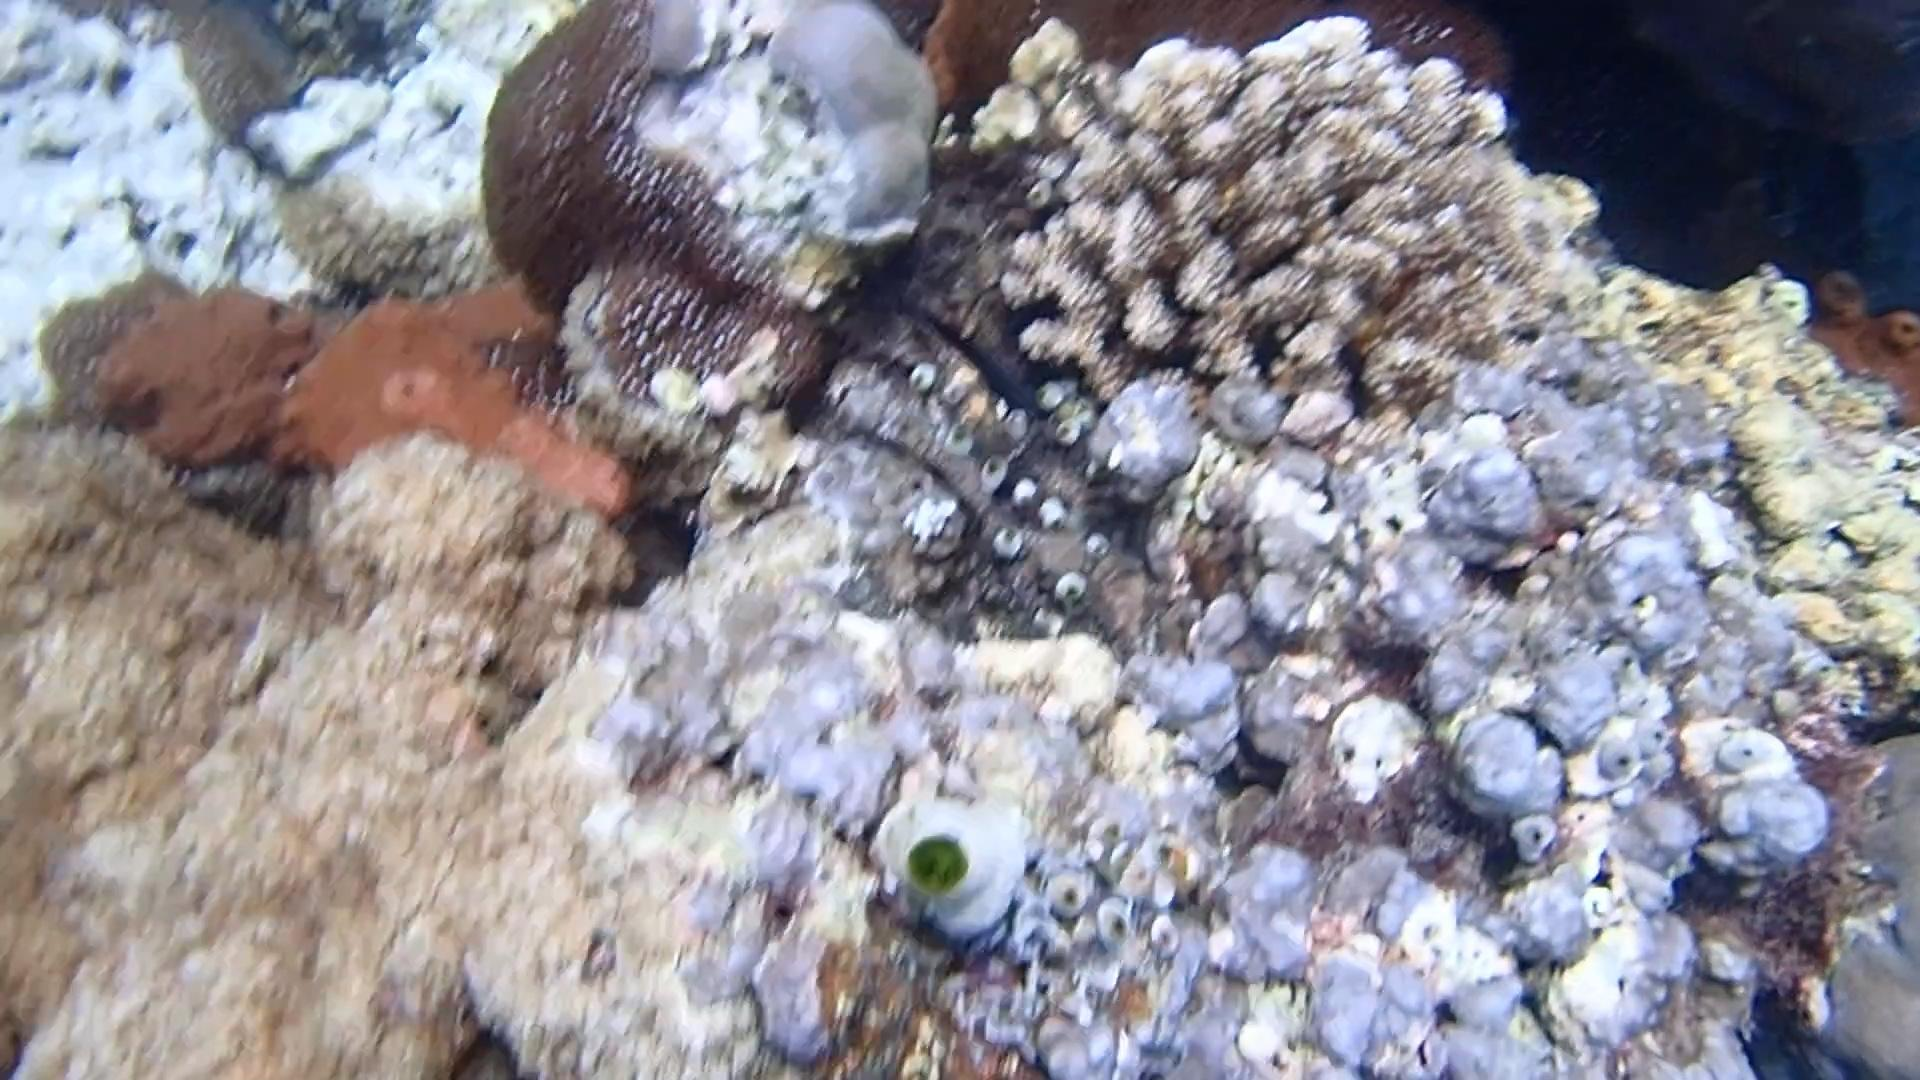Dark Fish: (893, 282, 1058, 421)
